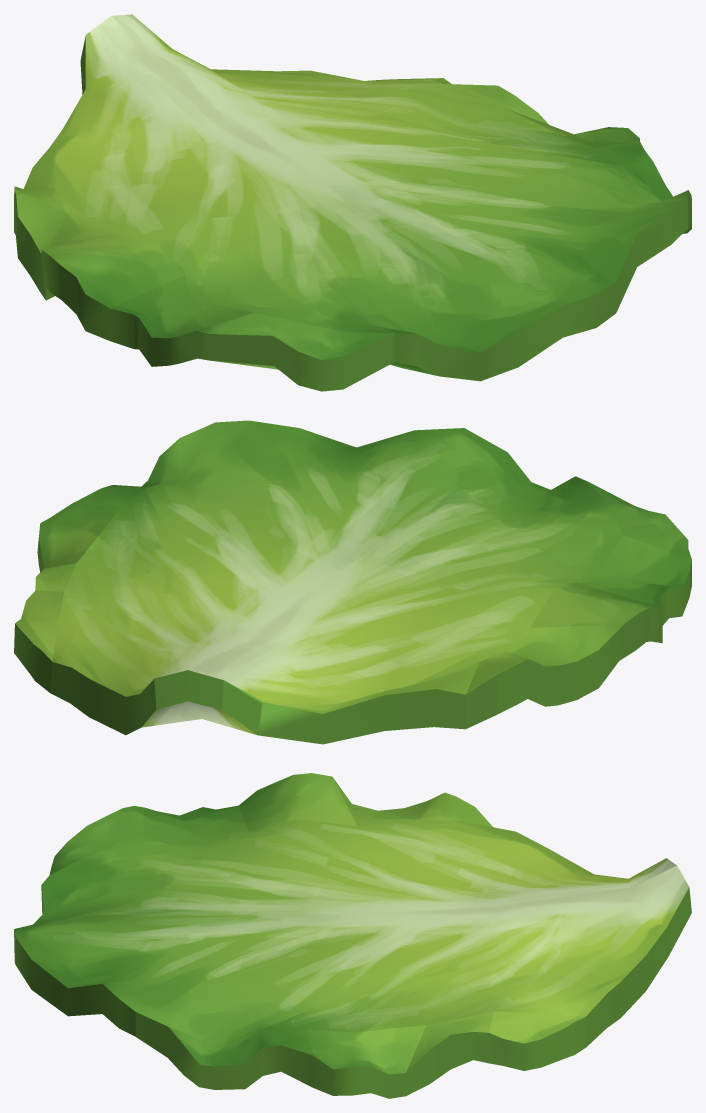
The model's file is MD_Lettuce.fbx.
The picture shows the model from 3 angles, top to bottom: view 1: azimuth 30°, elevation 25°; view 2: azimuth 150°, elevation 25°; view 3: azimuth 270°, elevation 25°; orthographic projection. The views are drawn at different scales.
Parts seen in each view (by area): view 1: Lettuce; view 2: Lettuce; view 3: Lettuce.
Part boxes in pixels (box(x1,y1,x2,y2)): Lettuce: box(14, 14, 691, 391); Lettuce: box(14, 420, 691, 744); Lettuce: box(14, 773, 691, 1098).
Size of the model in its own units: 2.22 by 0.3935 by 2.42.
